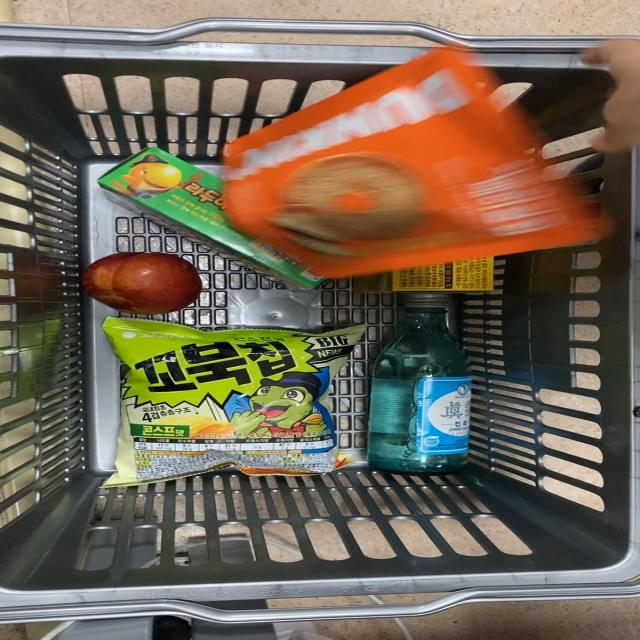cheesebagel: (212, 56, 578, 281)
ggobukchip: (102, 319, 368, 476)
goraebob: (93, 148, 259, 252)
jinro: (362, 286, 492, 473)
plum: (90, 246, 224, 322)
